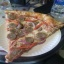pizza: (4, 10, 64, 62)
